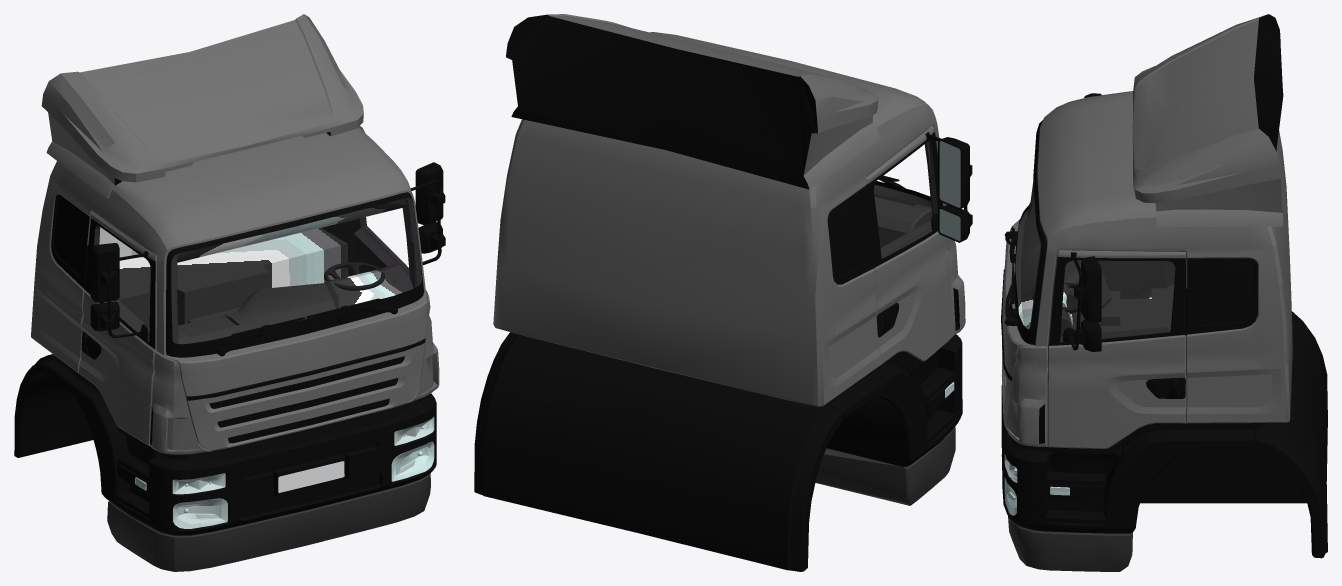
Rendered from cabine_caminhao.glb.
3 views of the same model, side by side, from view 1: azimuth 30°, elevation 25°; view 2: azimuth 150°, elevation 25°; view 3: azimuth 270°, elevation 25° (orthographic). The views are drawn at different scales.
Parts seen in each view (by area): view 1: cabine; view 2: cabine; view 3: cabine.
Part boxes in pixels (left/top/right/bottom): cabine: left=14, top=14, right=445, bottom=571; cabine: left=474, top=14, right=972, bottom=571; cabine: left=1001, top=14, right=1327, bottom=571.
Size of the model in its own units: 3.13 by 3.57 by 2.46.
Materials: 1 (1 with a texture image).
